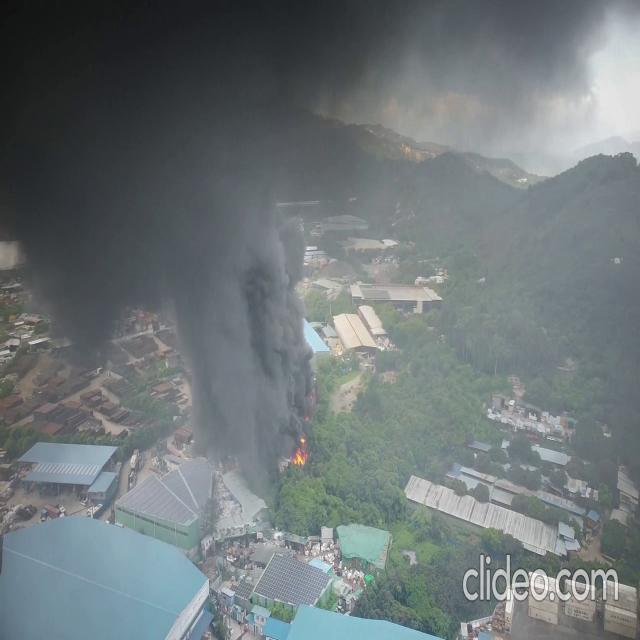Fire: (292, 438, 308, 468)
